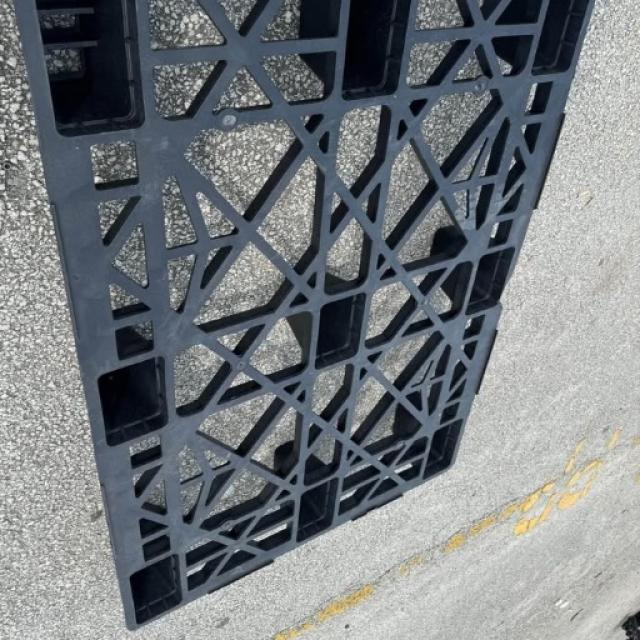non-igps: (4, 0, 598, 635)
